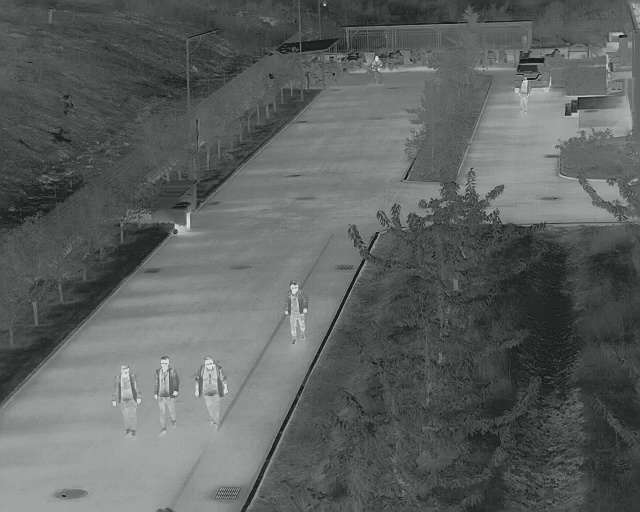NonMotorVehicle: (365, 54, 381, 84)
person: (113, 367, 140, 431), (155, 357, 178, 432), (198, 357, 224, 423), (285, 282, 306, 345), (521, 81, 529, 109)
vehicle: (512, 55, 549, 92)
